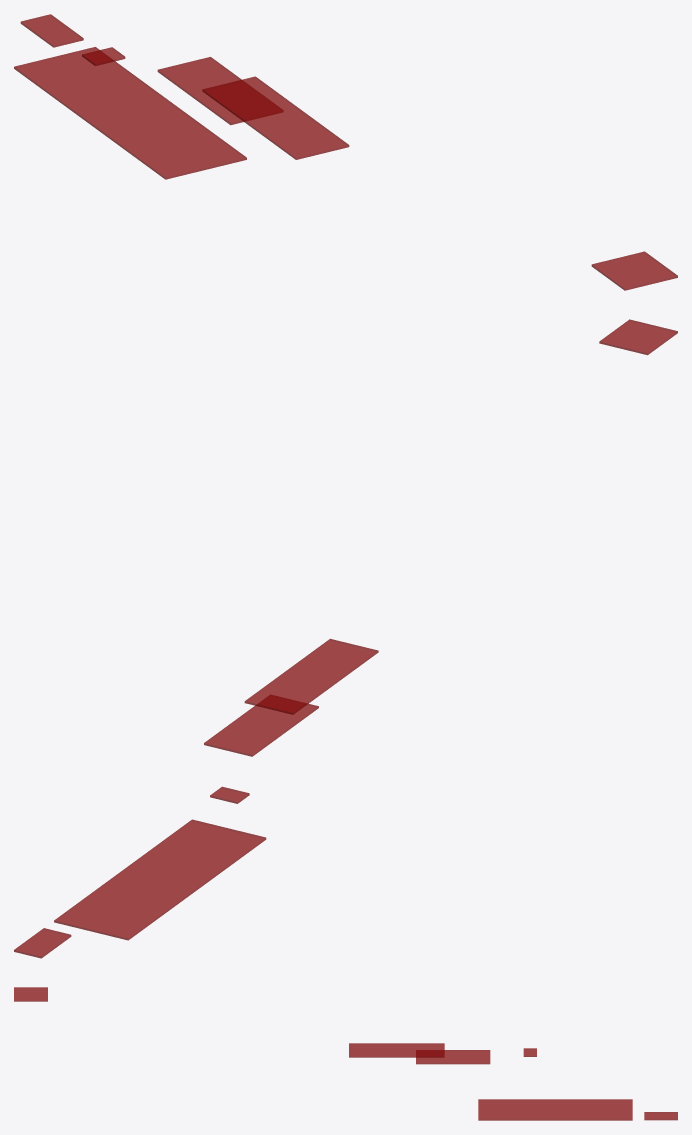
The model's file is _death.obj.
3 renders of one model, top to bottom at view 1: azimuth 30°, elevation 25°; view 2: azimuth 150°, elevation 25°; view 3: azimuth 270°, elevation 25°, orthographic. The views are drawn at different scales.
Bounding box in the file's own units: 52.68 × 105 × 553.
